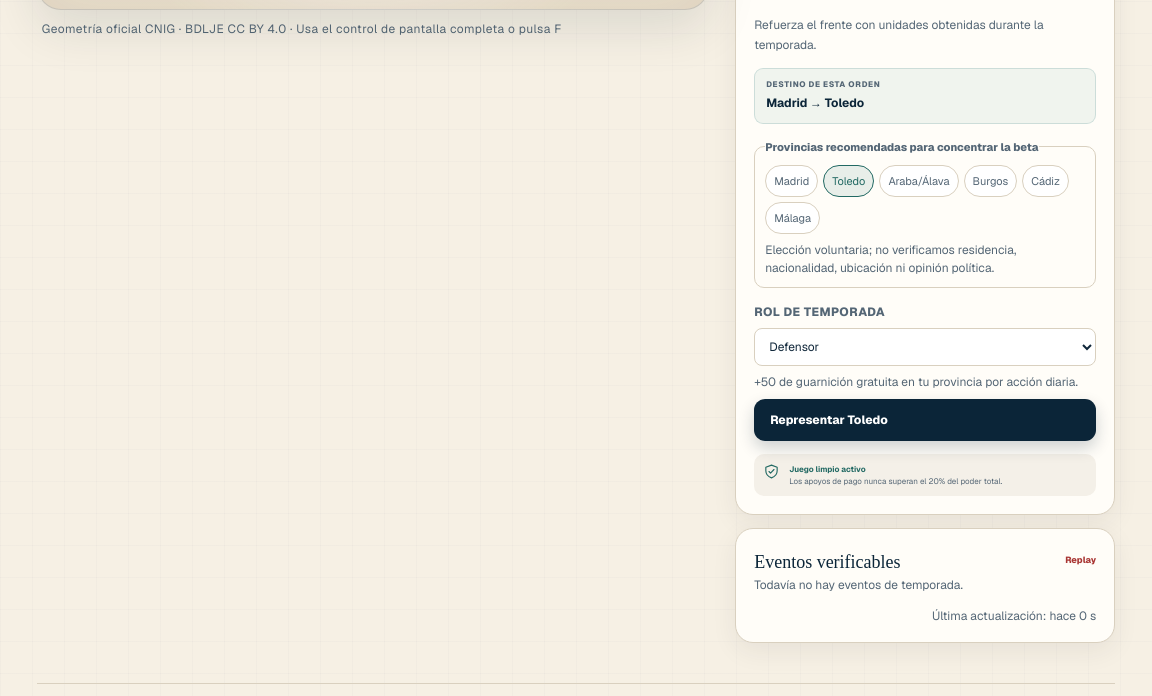
Test: TerritoriosGame › lets an authenticated newcomer join the selected faction
(page scrolled)
Select "Estratega" in the dropdown labelled "Rol de temporada" at {"x": 925, "y": 347}, box [754,328,1096,366]
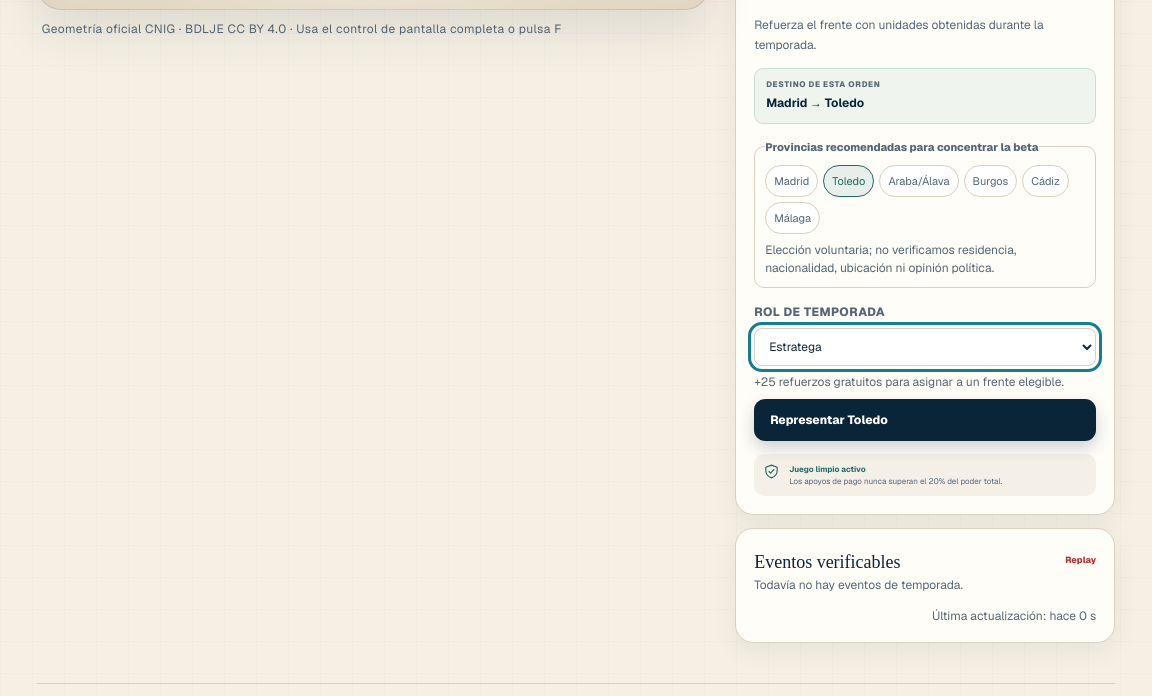
Click the button "Representar Toledo" at {"x": 829, "y": 420}, box [754,398,1096,440]
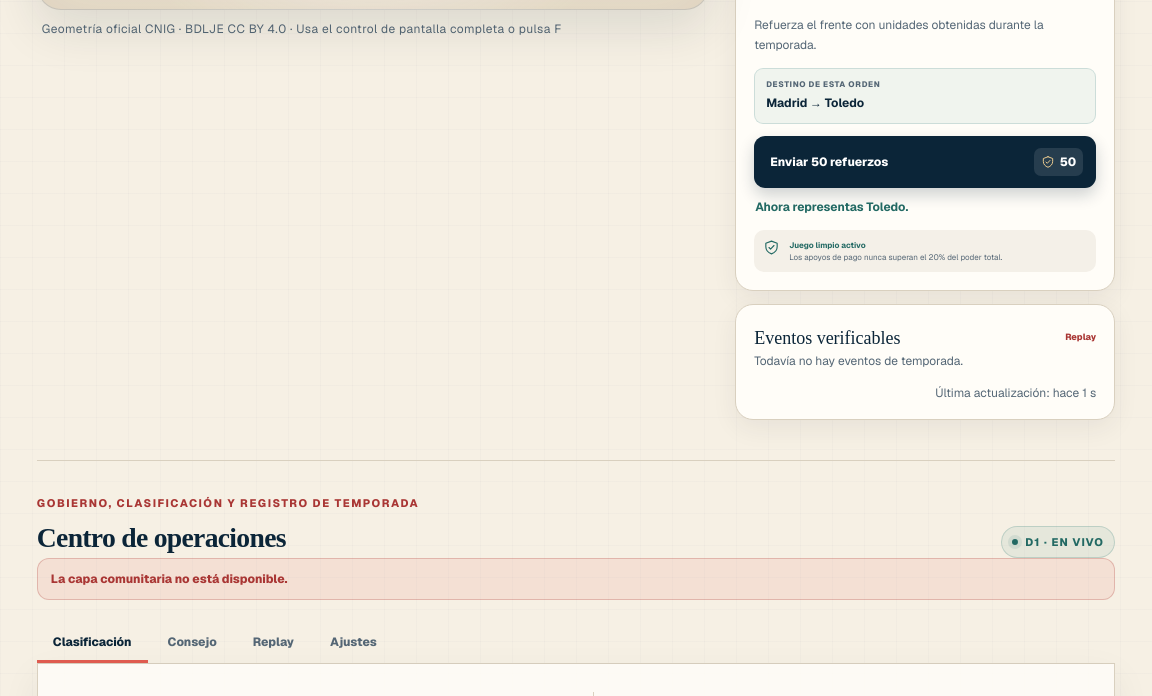
Expected: the text "Ahora representas Toledo." is shown, [755,199,908,215]
Expected: the button "Enviar 50 refuerzos 50" is shown, [754,136,1096,188]
